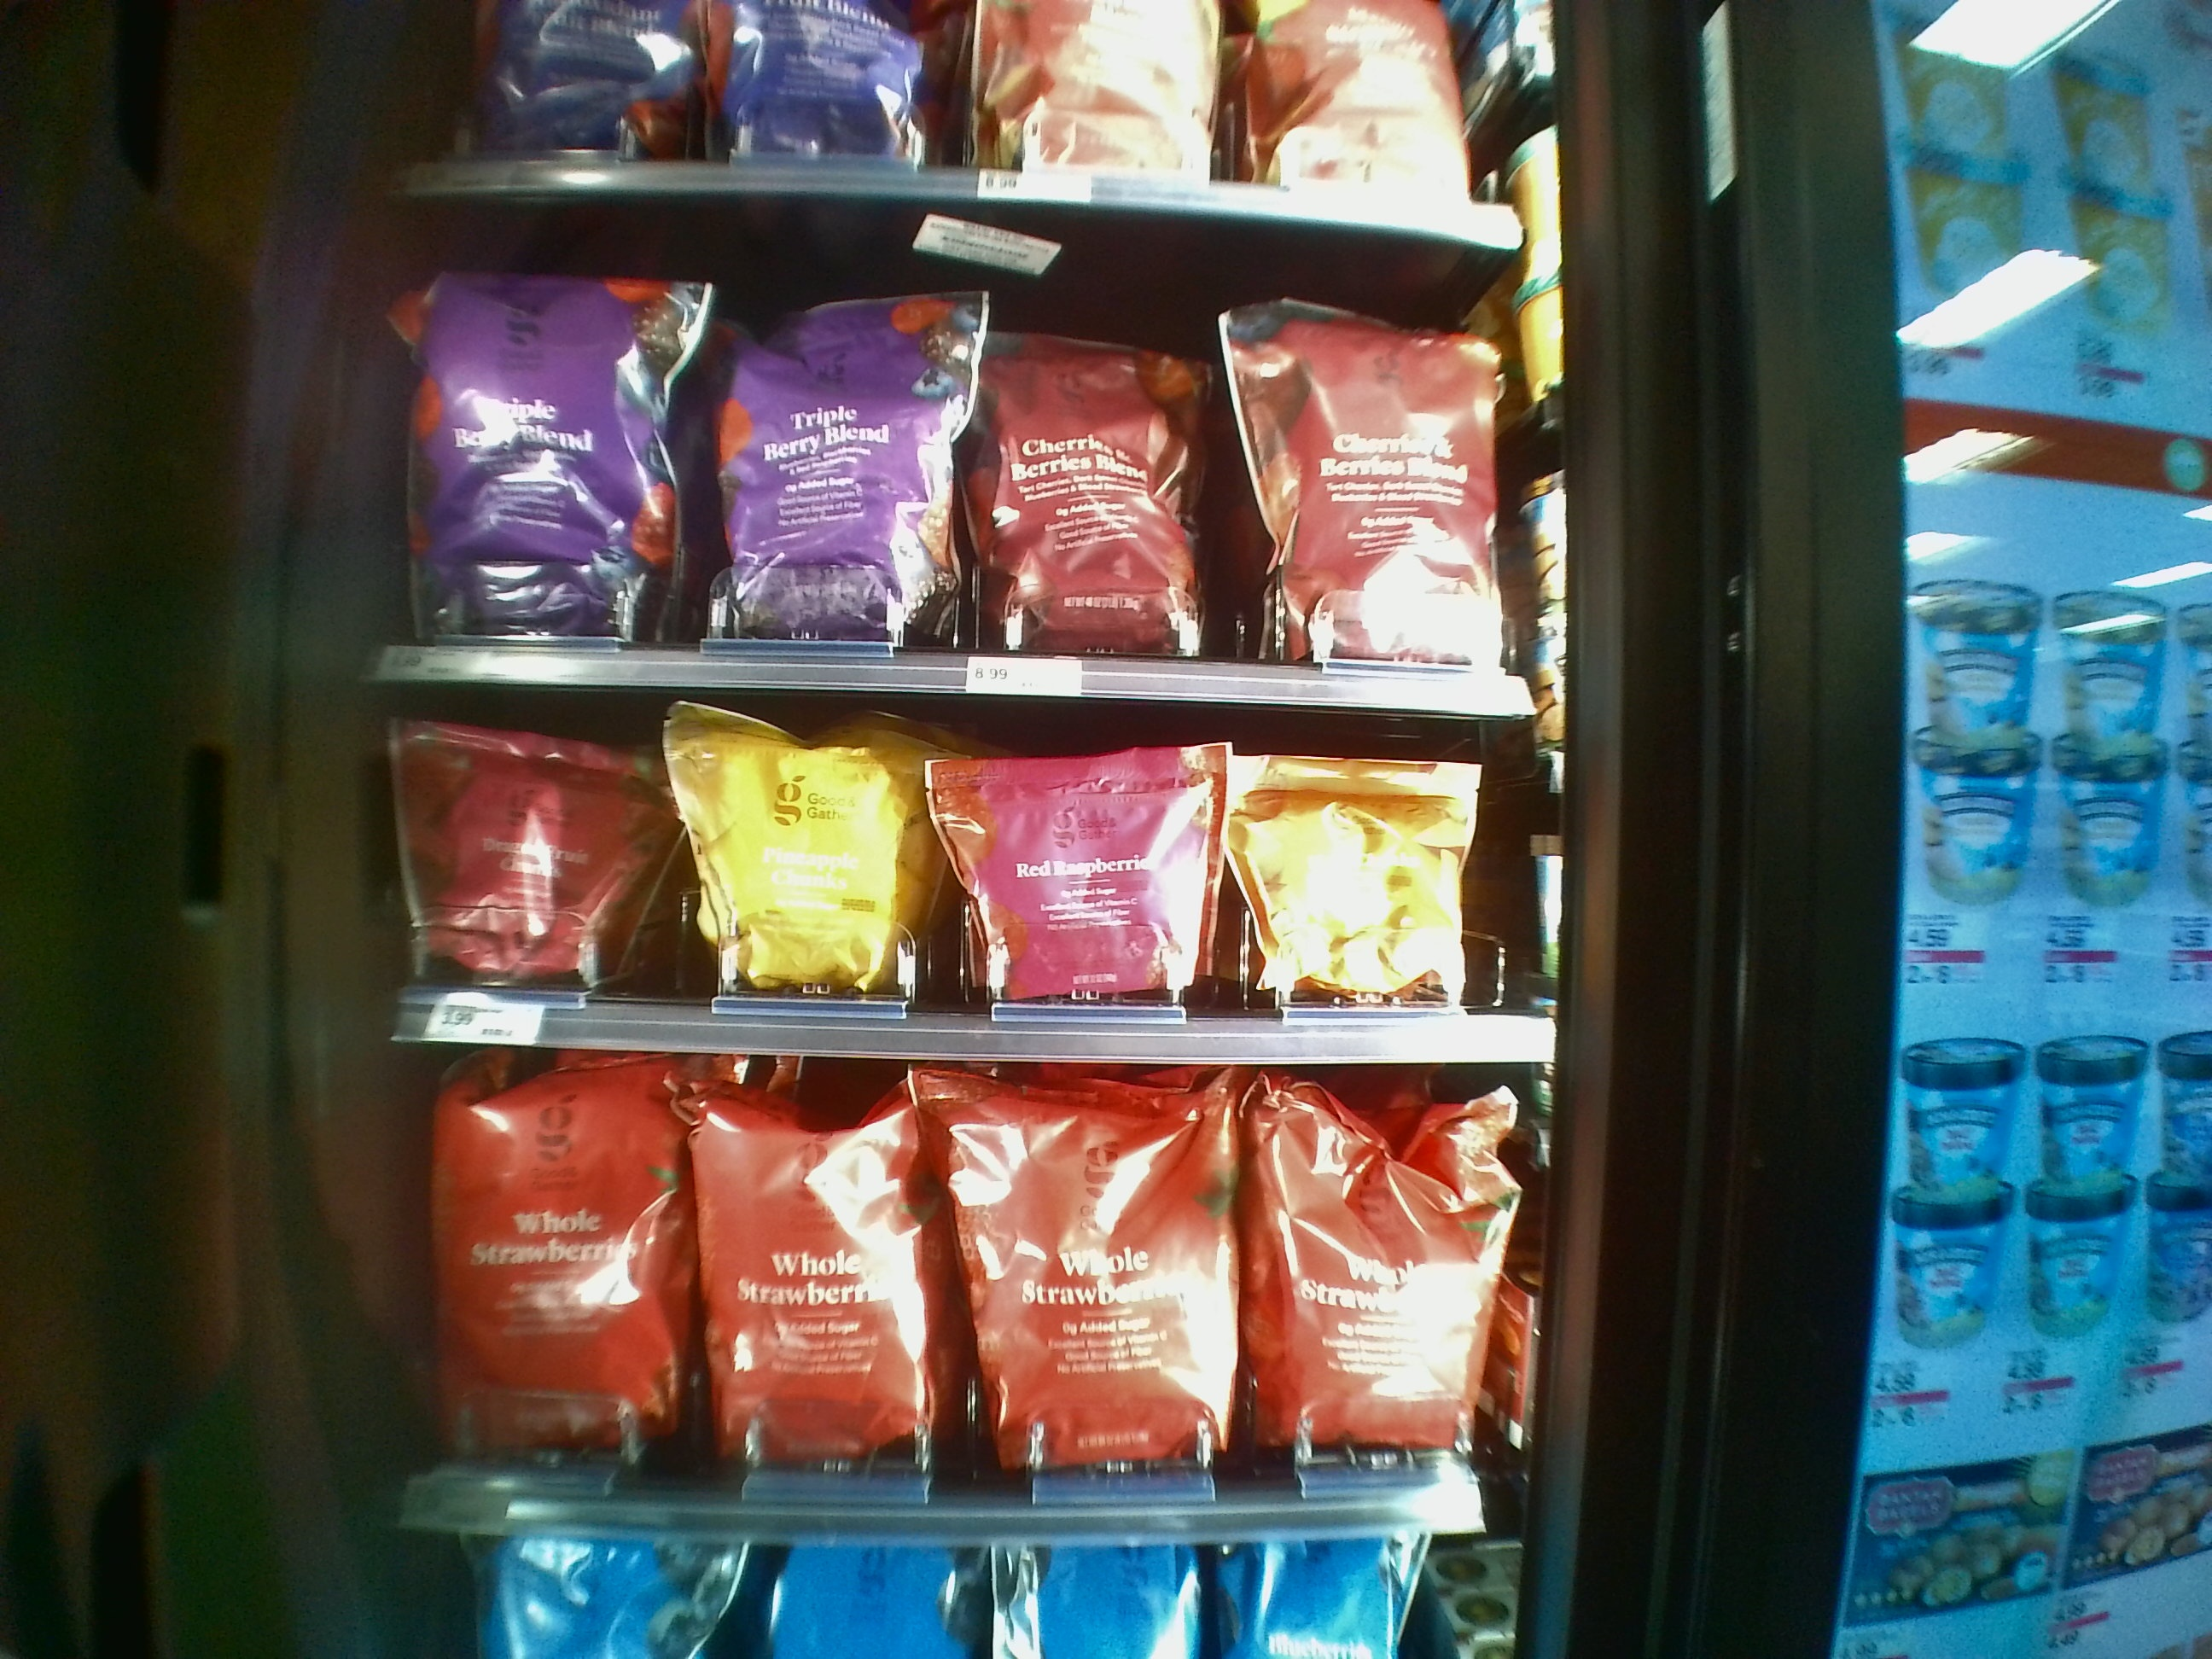shelf: (392, 206, 1573, 711), (413, 1054, 1515, 1547), (387, 701, 1554, 1072)
